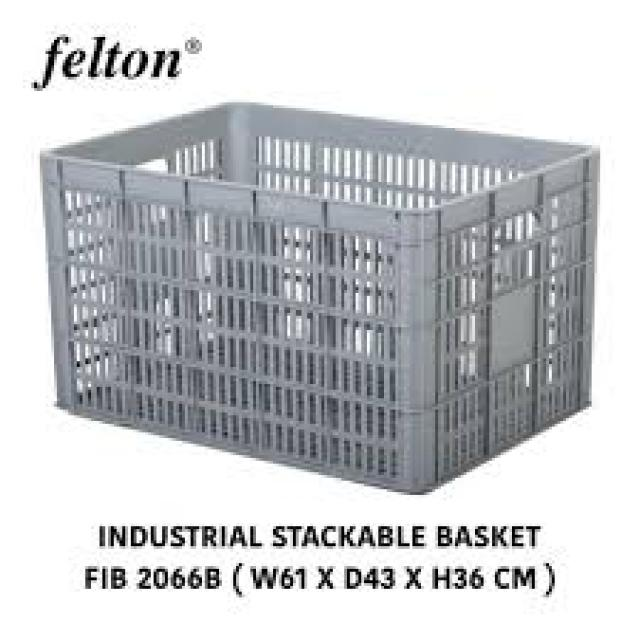basket: (7, 79, 624, 513)
